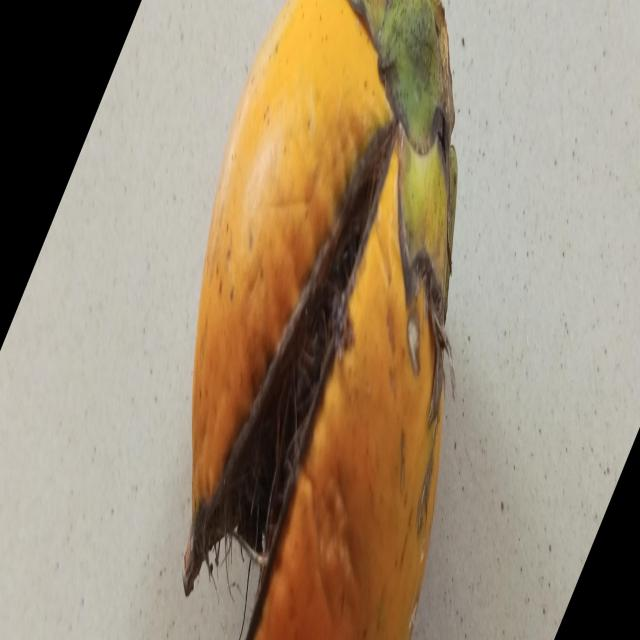damaged: (183, 0, 458, 640)
